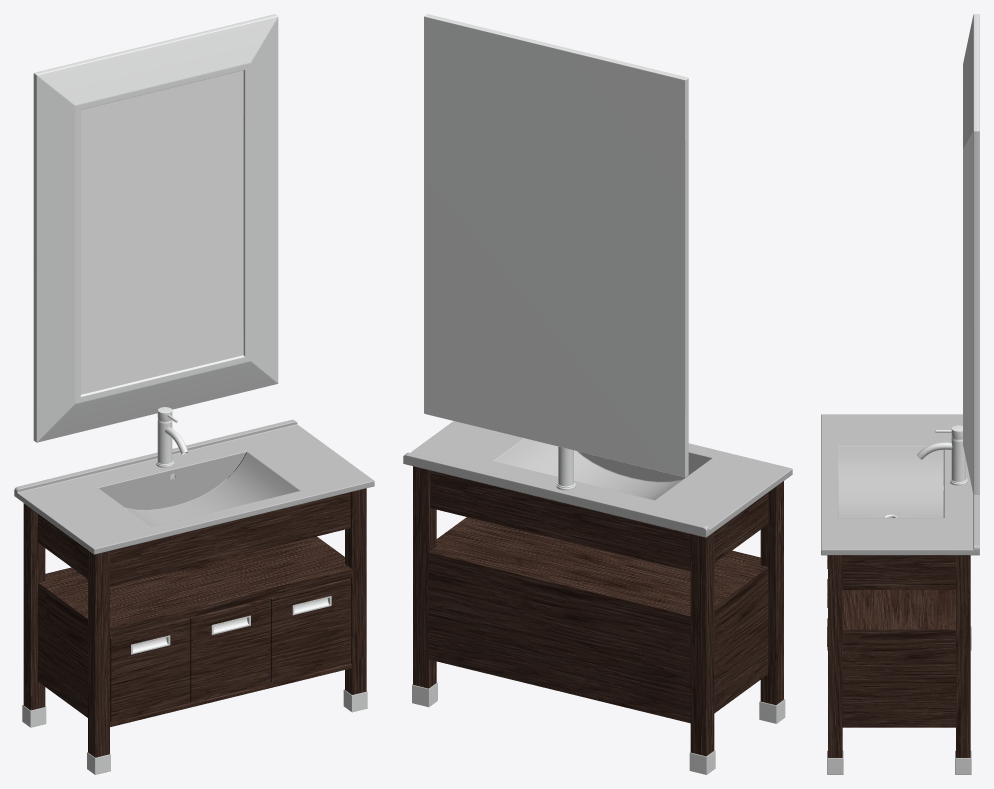
The model's file is SetBano_ScaledDown_002.glb.
3 renders of one model, left to right at view 1: azimuth 30°, elevation 25°; view 2: azimuth 150°, elevation 25°; view 3: azimuth 270°, elevation 25°, orthographic. The views are drawn at different scales.
Parts seen in each view (by area): view 1: 0015368.000, 0015368; view 2: 0015368.000, 0015368; view 3: 0015368, 0015368.000.
Boxes of the visible parts, <box> form: 0015368.000: <box>33,14,278,467</box>; 0015368: <box>14,419,374,774</box>; 0015368.000: <box>424,14,688,490</box>; 0015368: <box>403,421,792,774</box>; 0015368: <box>821,414,979,774</box>; 0015368.000: <box>917,14,979,495</box>.
Size of the model in its own units: 61.57 by 135 by 30.45.
Materials: 2 (2 with a texture image).
